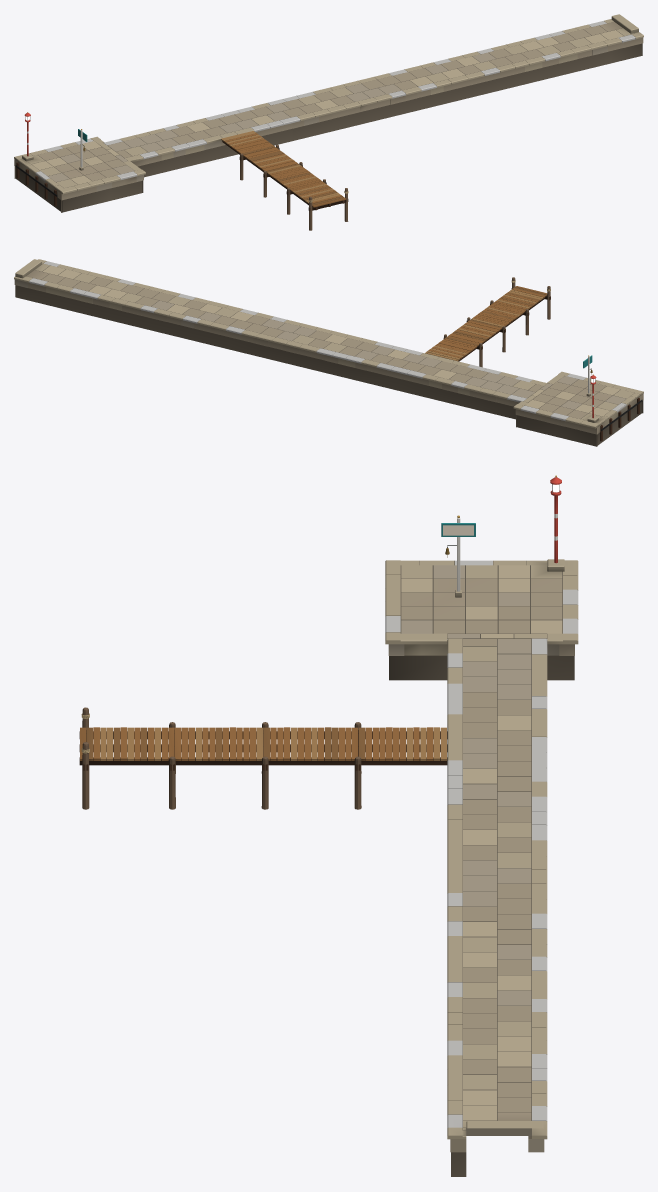
The model's file is pav_mole.glb.
3 renders of one model, top to bottom at view 1: azimuth 30°, elevation 25°; view 2: azimuth 150°, elevation 25°; view 3: azimuth 270°, elevation 25°, orthographic. The views are drawn at different scales.
Visible parts, largest first — view 1: static_mole; view 2: static_mole; view 3: static_mole.
Boxes of the visible parts, left/top/right/bottom form: static_mole: left=14, top=14, right=643, bottom=230; static_mole: left=14, top=259, right=643, bottom=446; static_mole: left=79, top=475, right=578, bottom=1176.
Bounding box in the file's own units: 44.16 × 5.01 × 16.12.
